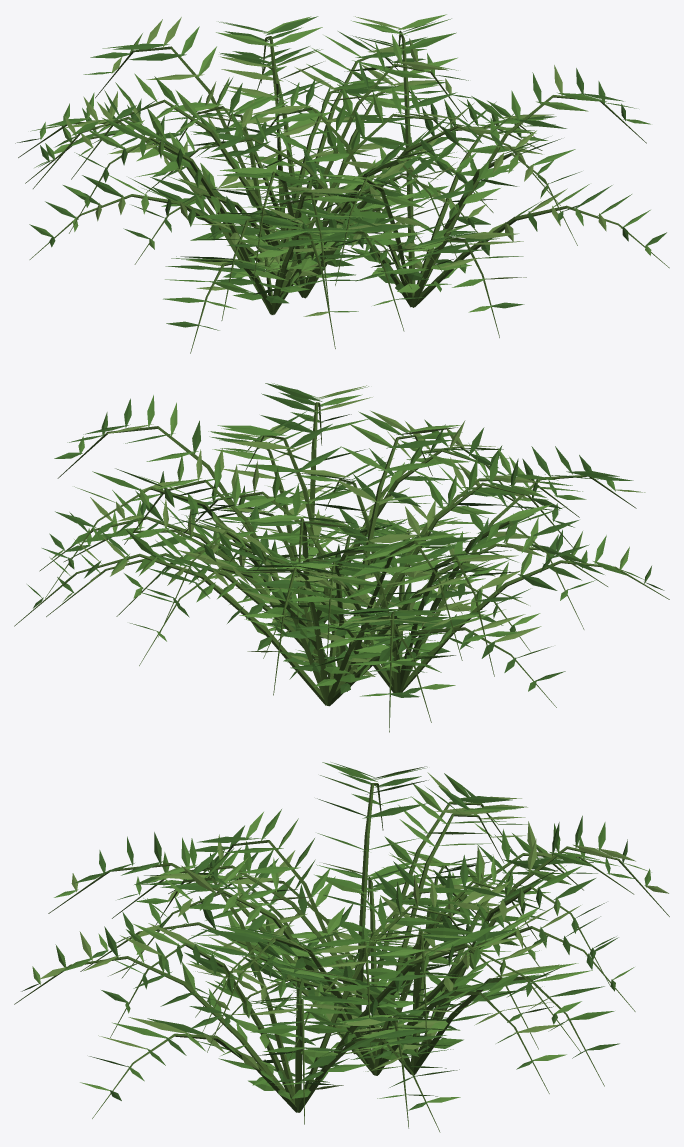
File: fern.glb
3 renders of one model, top to bottom at view 1: azimuth 30°, elevation 25°; view 2: azimuth 150°, elevation 25°; view 3: azimuth 270°, elevation 25°, orthographic. The views are drawn at different scales.
Visible parts, largest first — view 1: Fern_ModeledPinnae, Fern_FrondStems; view 2: Fern_ModeledPinnae, Fern_FrondStems; view 3: Fern_ModeledPinnae, Fern_FrondStems.
Boxes of the visible parts, box(x1,y1,x2,y2) form: Fern_ModeledPinnae: box(15, 14, 666, 330); Fern_FrondStems: box(18, 30, 669, 353); Fern_ModeledPinnae: box(27, 383, 664, 697); Fern_FrondStems: box(14, 402, 669, 732); Fern_ModeledPinnae: box(21, 762, 668, 1110); Fern_FrondStems: box(14, 783, 669, 1132).
Bounding box in the file's own units: 2.45 × 0.8762 × 2.41.
